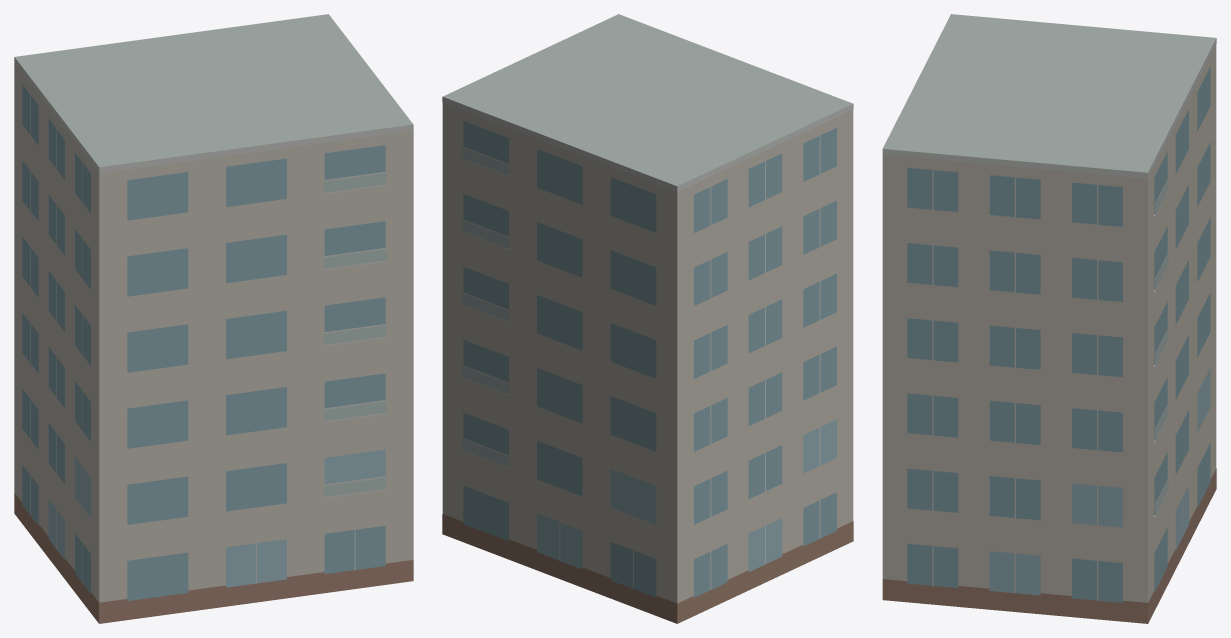
File: survey-upis-33011661.glb
The picture shows the model from 3 angles, left to right: view 1: azimuth 30°, elevation 25°; view 2: azimuth 150°, elevation 25°; view 3: azimuth 270°, elevation 25°; orthographic projection. The views are drawn at different scales.
Parts seen in each view (by area): view 1: survey-upis-33011661.tmp; view 2: survey-upis-33011661.tmp; view 3: survey-upis-33011661.tmp.
Part boxes in pixels (<box>): survey-upis-33011661.tmp: <box>14,14,413,623</box>; survey-upis-33011661.tmp: <box>442,14,853,623</box>; survey-upis-33011661.tmp: <box>882,14,1216,623</box>.
Size of the model in its own units: 13.96 by 18.5 by 12.42.
